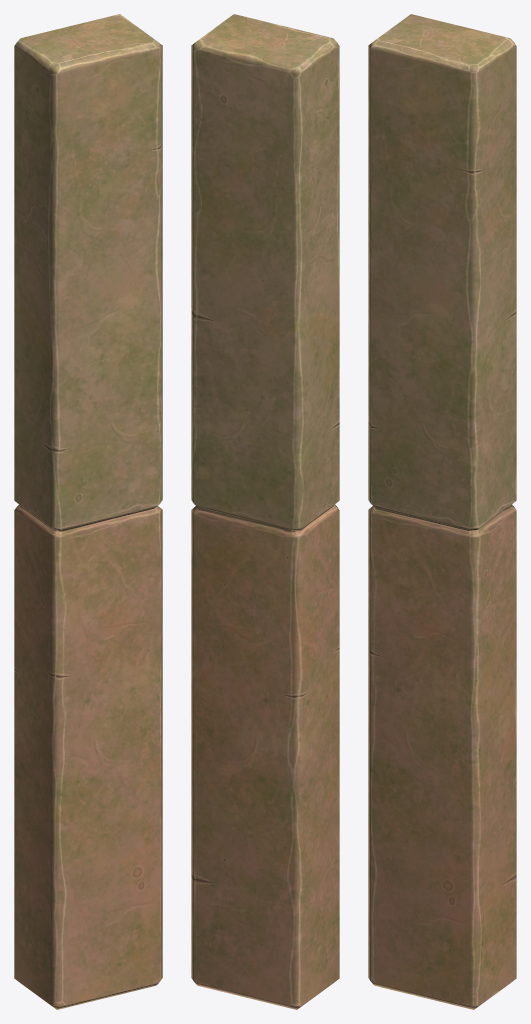
File: SM_Wall_Detail_1.fbx
The picture shows the model from 3 angles, left to right: view 1: azimuth 30°, elevation 25°; view 2: azimuth 150°, elevation 25°; view 3: azimuth 330°, elevation 25°; orthographic projection.
Visible parts, largest first — view 1: SM_Wall_Detail_1_LOD0; view 2: SM_Wall_Detail_1_LOD0; view 3: SM_Wall_Detail_1_LOD0.
Boxes of the visible parts, left/top/right/bottom form: SM_Wall_Detail_1_LOD0: left=14, top=14, right=162, bottom=1009; SM_Wall_Detail_1_LOD0: left=191, top=14, right=339, bottom=1009; SM_Wall_Detail_1_LOD0: left=368, top=14, right=516, bottom=1009.
Bounding box in the file's own units: 37.14 × 25 × 300.
Materials: 1 (1 with a texture image).
